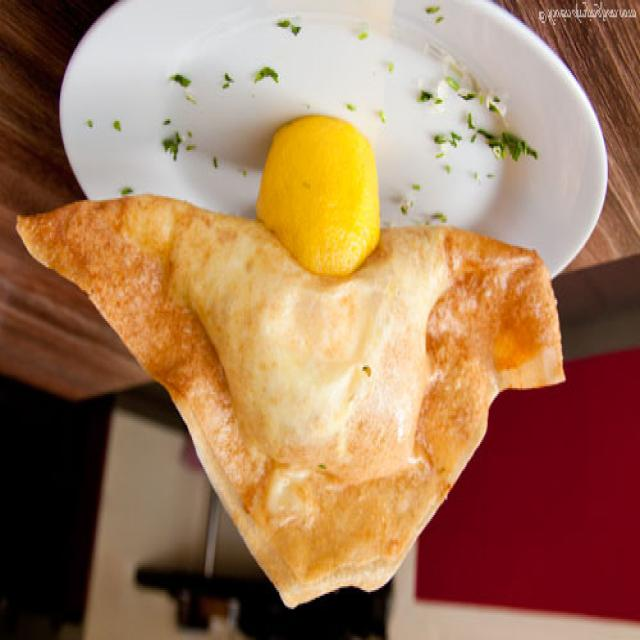brik: (35, 179, 556, 628)
